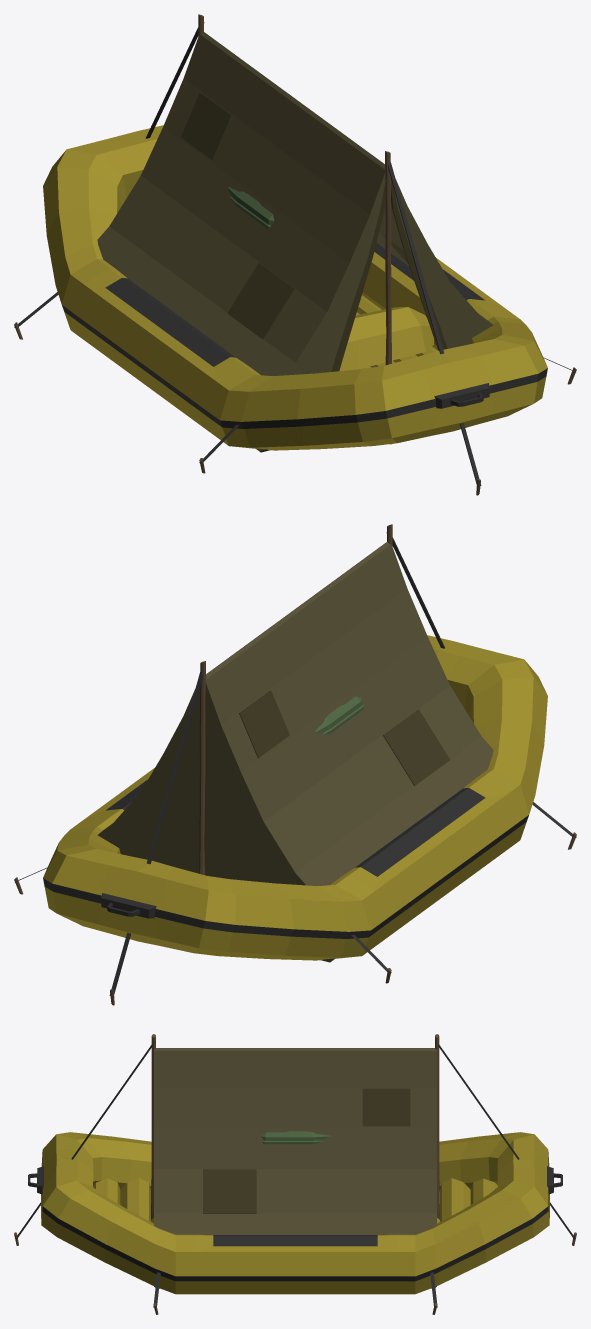
Rendered from survie.glb.
3 views of the same model, one above another, from view 1: azimuth 30°, elevation 25°; view 2: azimuth 150°, elevation 25°; view 3: azimuth 270°, elevation 25° (orthographic). The views are drawn at different scales.
Parts seen in each view (by area): view 1: Tent, Raft, Trashcan; view 2: Tent, Raft, Trashcan; view 3: Tent, Raft, Trashcan.
Boxes of the visible parts, x1,y1,x2,y2 form: Tent: (14,14,576,495); Raft: (43,125,547,450); Trashcan: (227,187,274,229); Tent: (14,524,576,1005); Raft: (43,635,547,960); Trashcan: (315,696,364,735); Tent: (14,1034,576,1314); Raft: (28,1132,562,1294); Trashcan: (261,1131,331,1144).
Size of the model in its own units: 14.58 by 10.33 by 24.87.
